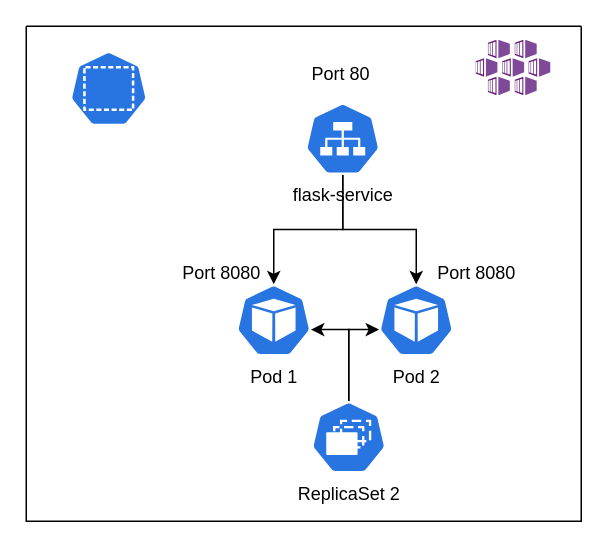
This 608x548 diagram has some shape labels left out. The shapes that lost their labels are listed below. From the top down, each one's centre as x and y in pixels, then its label:
At (513,67): "AKS".
At (108,88): "default ns".
